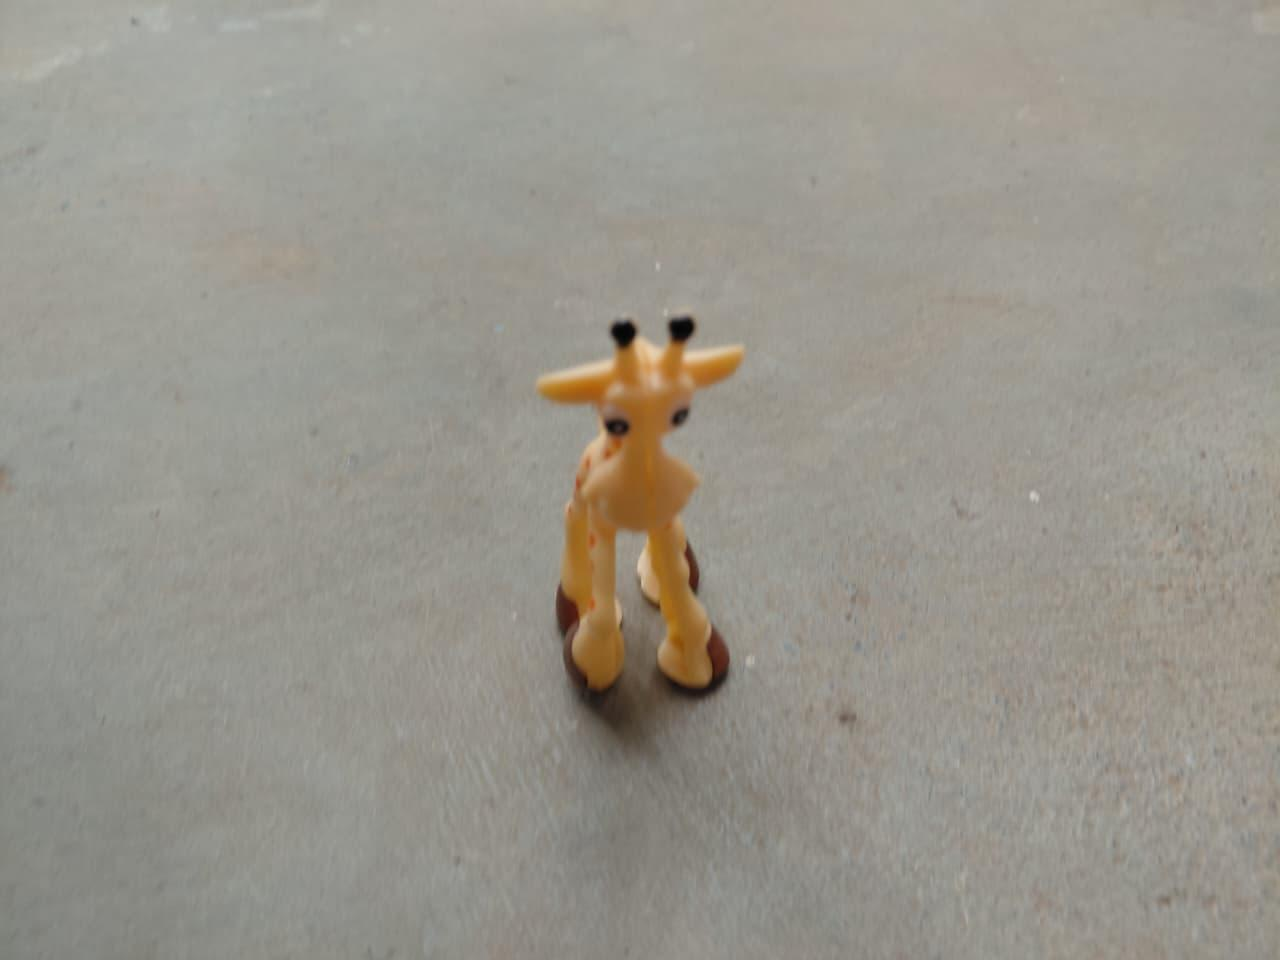giraffe: (528, 288, 755, 710)
